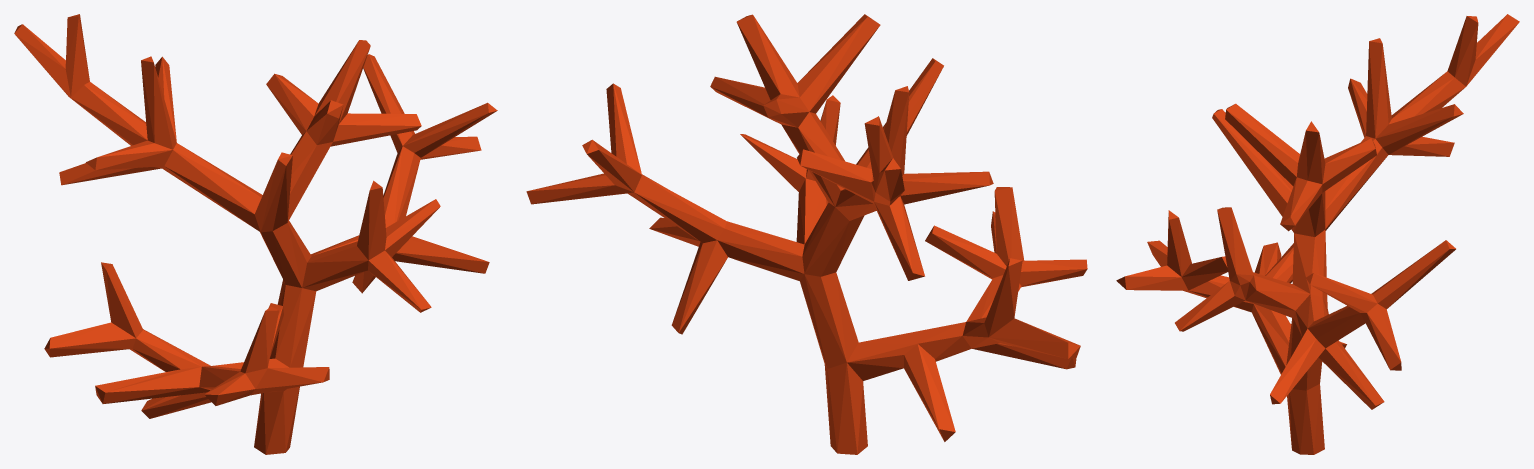
The model's file is Coral_02.fbx.
The picture shows the model from 3 angles, left to right: view 1: azimuth 30°, elevation 25°; view 2: azimuth 150°, elevation 25°; view 3: azimuth 270°, elevation 25°; orthographic projection. The views are drawn at different scales.
Parts seen in each view (by area): view 1: Coral_02; view 2: Coral_02; view 3: Coral_02.
Part boxes in pixels (x1=…): Coral_02: x1=14, y1=14, x2=497, y2=454; Coral_02: x1=526, y1=14, x2=1087, y2=454; Coral_02: x1=1116, y1=14, x2=1519, y2=454.
Bounding box in the file's own units: 801 × 644 × 619.
